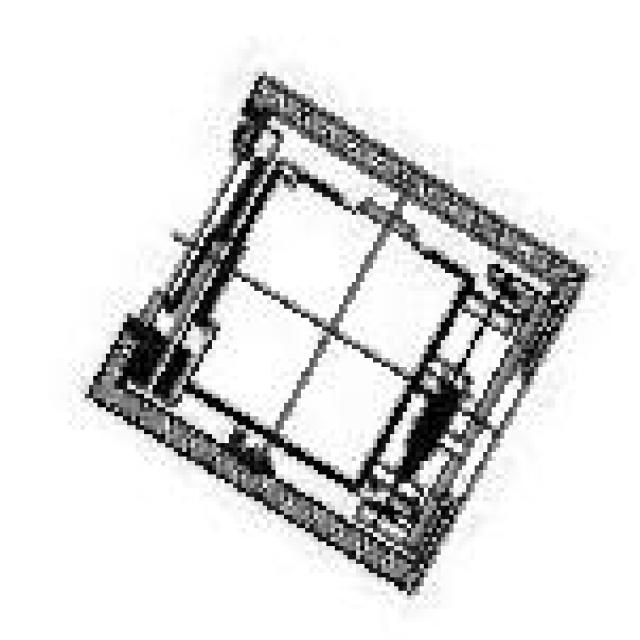lift: (80, 67, 580, 600)
